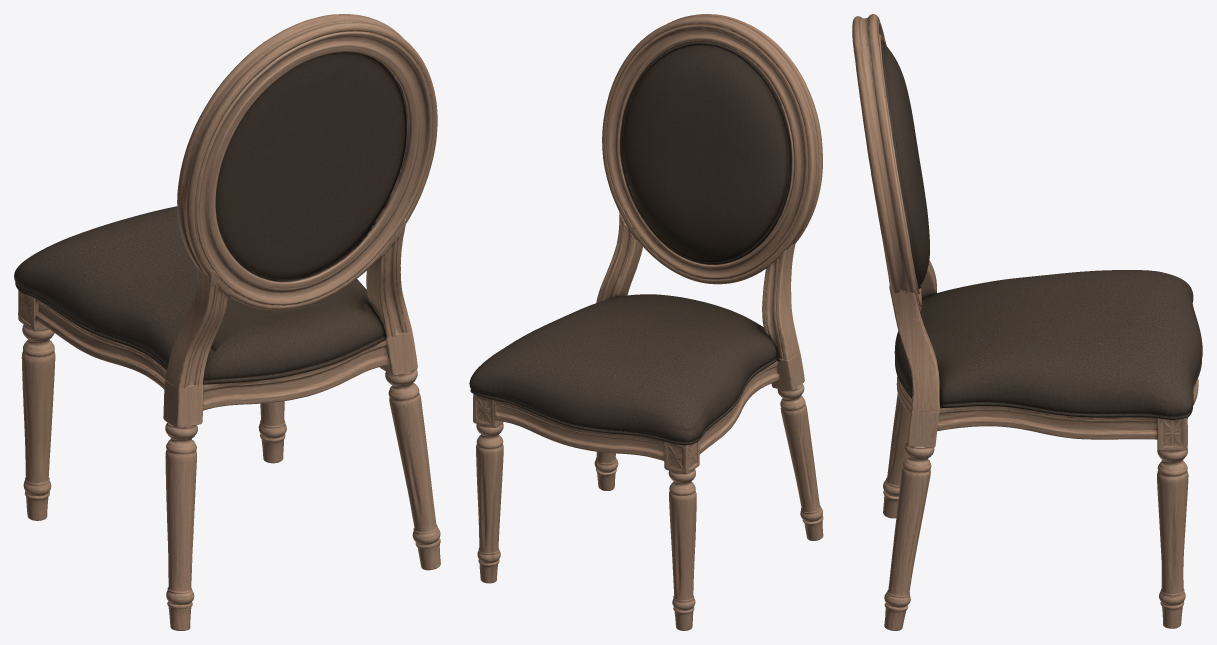
File: chair-brown.glb
3 views of the same model, side by side, from view 1: azimuth 30°, elevation 25°; view 2: azimuth 150°, elevation 25°; view 3: azimuth 270°, elevation 25° (orthographic). The views are drawn at different scales.
Parts seen in each view (by area): view 1: tripo_node_0dfe3148-05d4-4915-9f91-e1764fa3555a; view 2: tripo_node_0dfe3148-05d4-4915-9f91-e1764fa3555a; view 3: tripo_node_0dfe3148-05d4-4915-9f91-e1764fa3555a.
Part boxes in pixels (<box>): tripo_node_0dfe3148-05d4-4915-9f91-e1764fa3555a: <box>14,14,440,630</box>; tripo_node_0dfe3148-05d4-4915-9f91-e1764fa3555a: <box>469,14,823,630</box>; tripo_node_0dfe3148-05d4-4915-9f91-e1764fa3555a: <box>852,14,1202,630</box>.
Size of the model in its own units: 0.4474 by 0.92 by 0.5347.
Materials: 1 (1 with a texture image).
